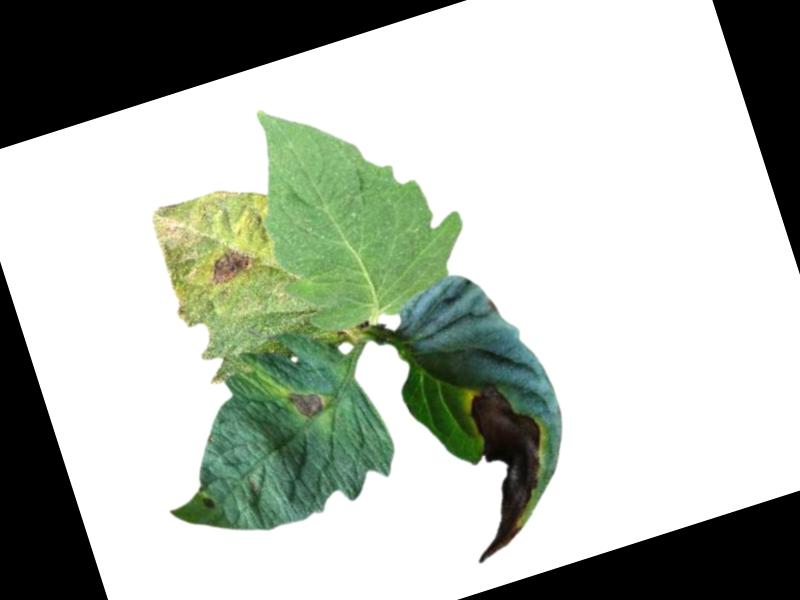Early_blight: (425, 369, 575, 564), (205, 243, 259, 289), (284, 381, 328, 424), (201, 492, 219, 510)
